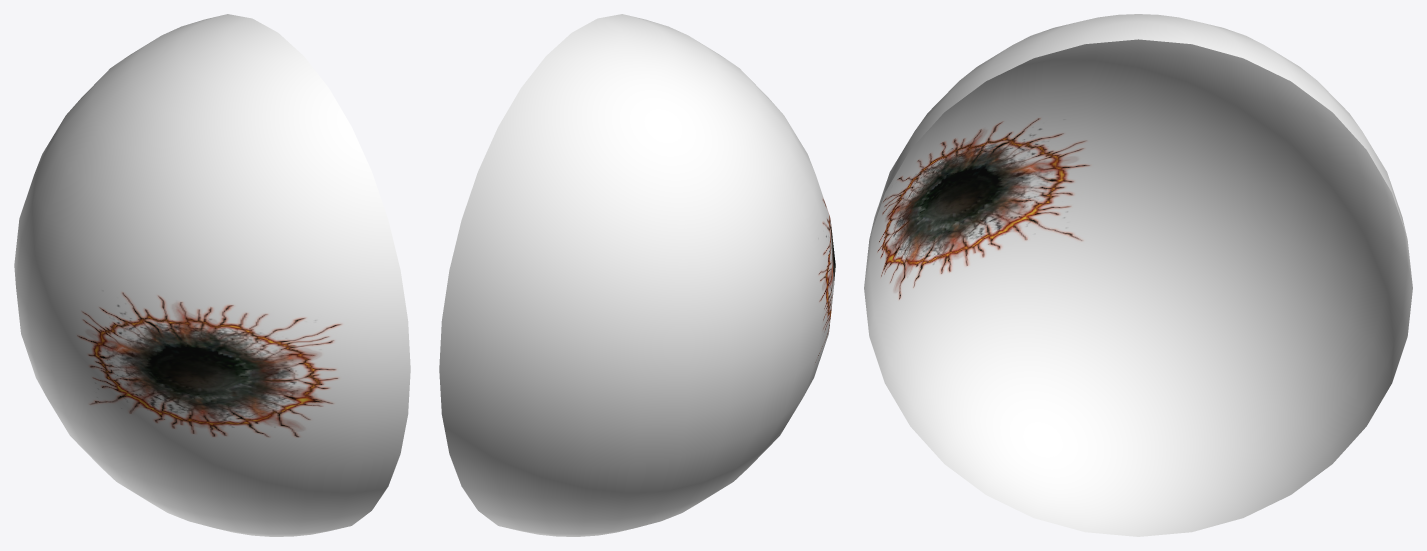
The model's file is 45 parallel crater.FBX.
The picture shows the model from 3 angles, left to right: view 1: azimuth 30°, elevation 25°; view 2: azimuth 150°, elevation 25°; view 3: azimuth 270°, elevation 25°; orthographic projection. The views are drawn at different scales.
Parts seen in each view (by area): view 1: Sphere001; view 2: Sphere001; view 3: Sphere001.
Boxes of the visible parts, x1,y1,x2,y2 form: Sphere001: (14,14,410,536); Sphere001: (439,14,835,536); Sphere001: (864,14,1412,536).
Bounding box in the file's own units: 118 × 236 × 236.
Materials: 1 (1 with a texture image).
